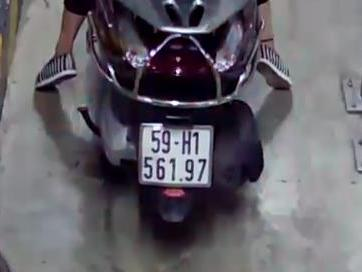num_plate: (139, 123, 212, 188)
